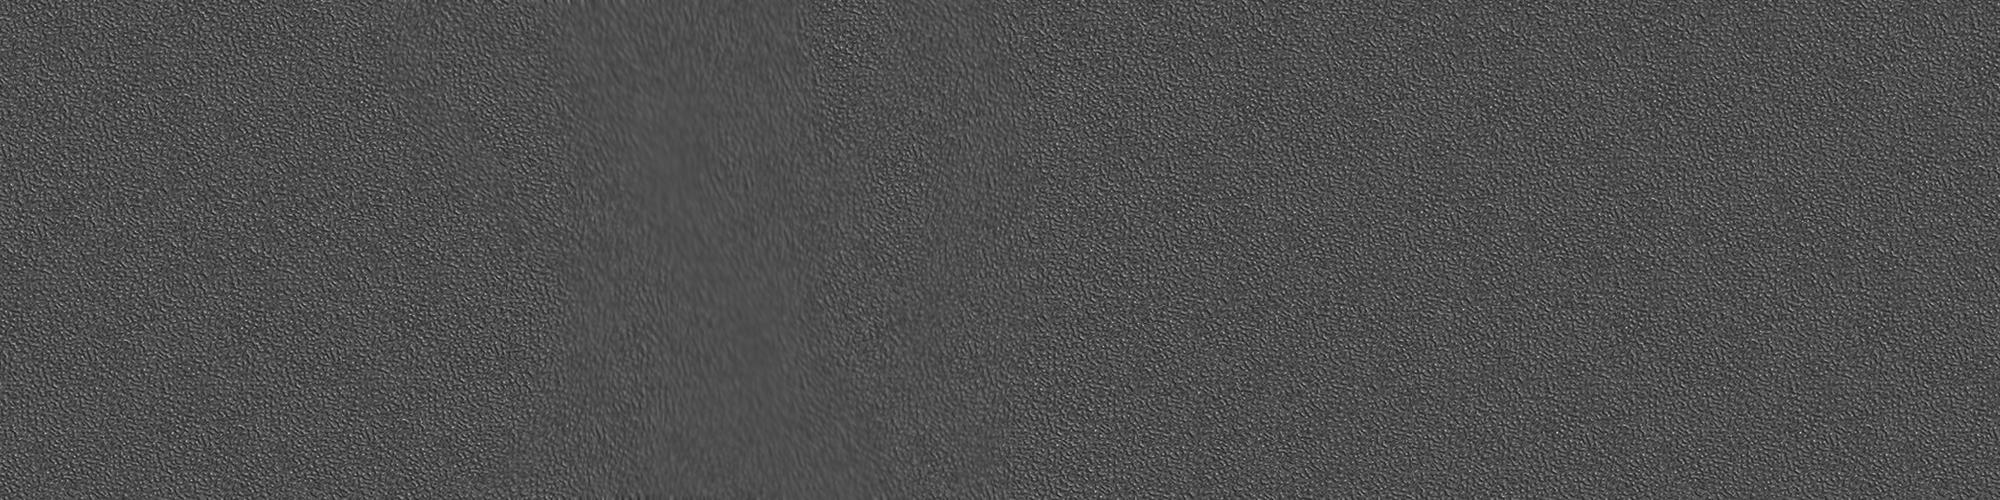Flow_Lines: (582, 4, 847, 494)
